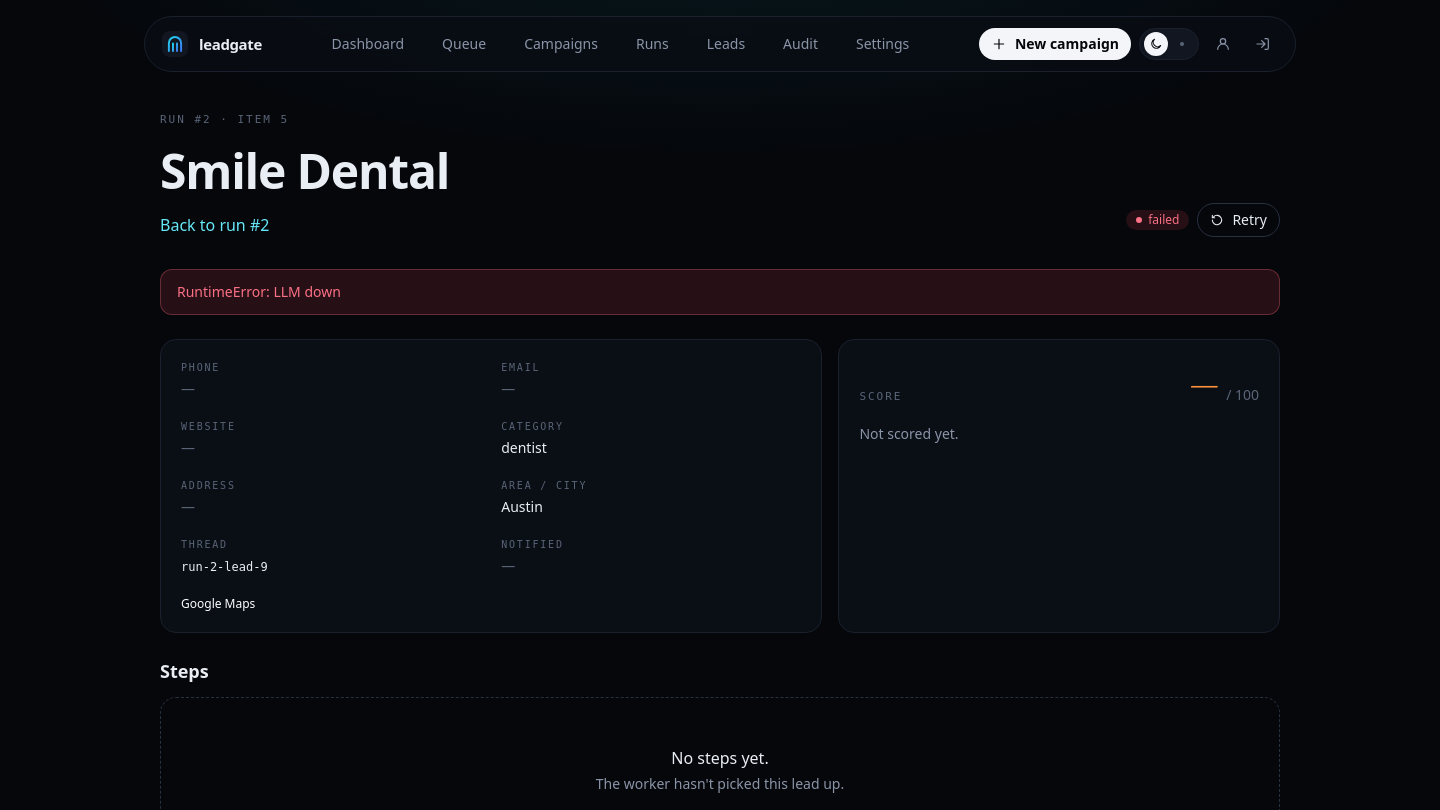
Test: RunItemPage › retries a failed lead and shows it queued again
Expected: the text "RuntimeError: LLM down" is shown, [160, 268, 1280, 314]
Click the button "Retry": (1239, 220) [1197, 202, 1280, 236]
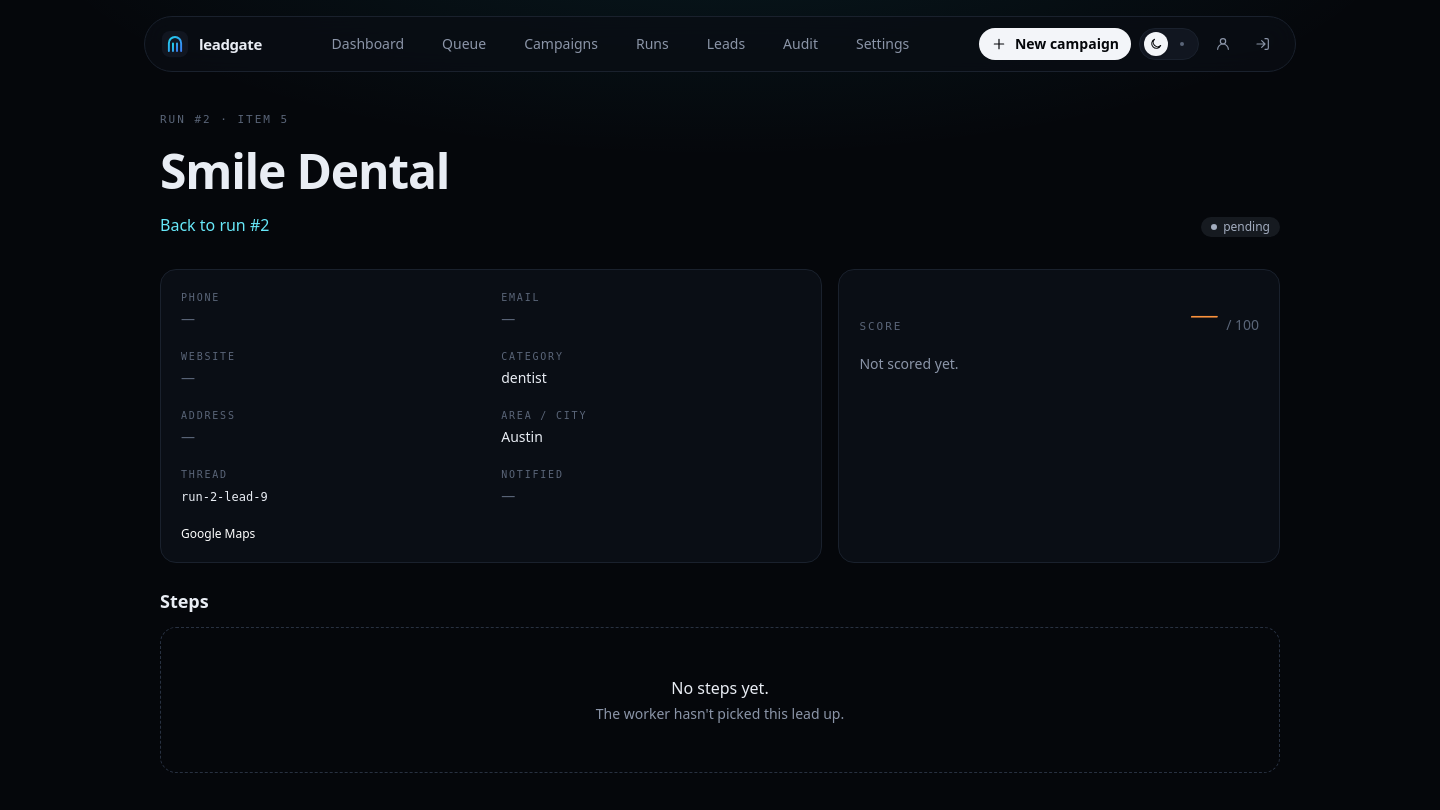
Expected: the text "pending" is shown, [1201, 216, 1280, 236]
Expected: the text "RuntimeError: LLM down" is gone
Expected: the button "Retry" is gone
